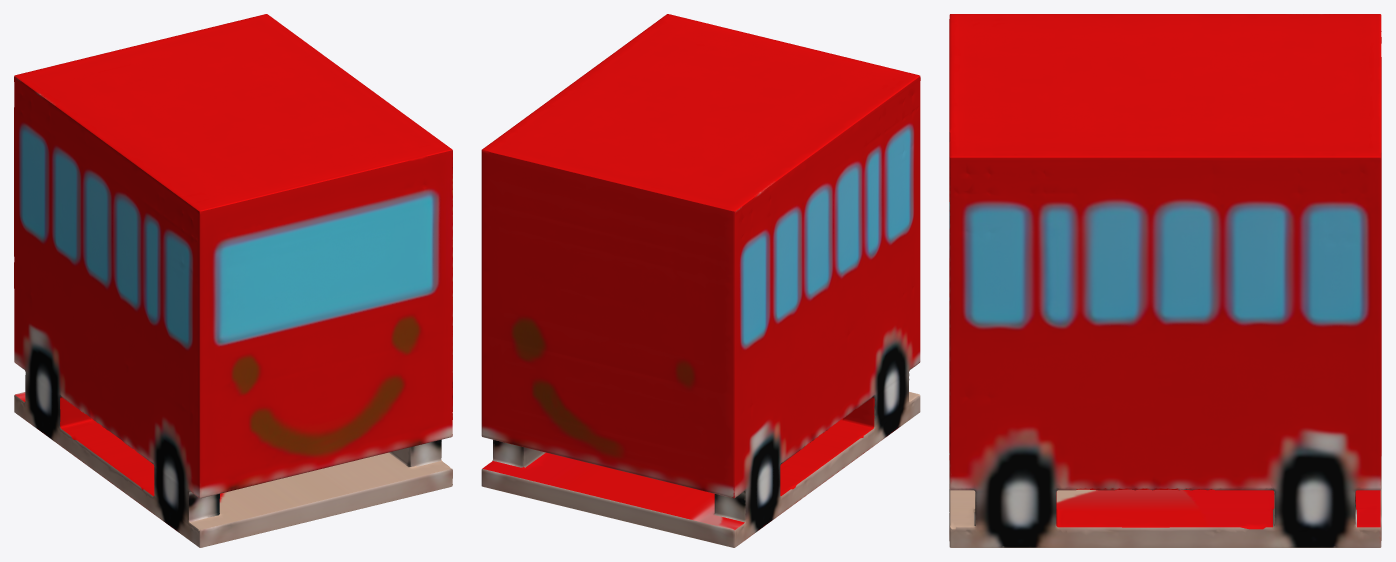
File: gen-424274c6.glb
3 renders of one model, left to right at view 1: azimuth 30°, elevation 25°; view 2: azimuth 150°, elevation 25°; view 3: azimuth 270°, elevation 25°, orthographic. The views are drawn at different scales.
Visible parts, largest first — view 1: tmpj9_uq1du.ply; view 2: tmpj9_uq1du.ply; view 3: tmpj9_uq1du.ply.
Boxes of the visible parts, x1,y1,x2,y2 form: tmpj9_uq1du.ply: [14, 14, 452, 547]; tmpj9_uq1du.ply: [481, 14, 920, 547]; tmpj9_uq1du.ply: [949, 14, 1381, 547].
Bounding box in the file's own units: 1.56 × 1.99 × 1.99.
Materials: 1 (1 with a texture image).
